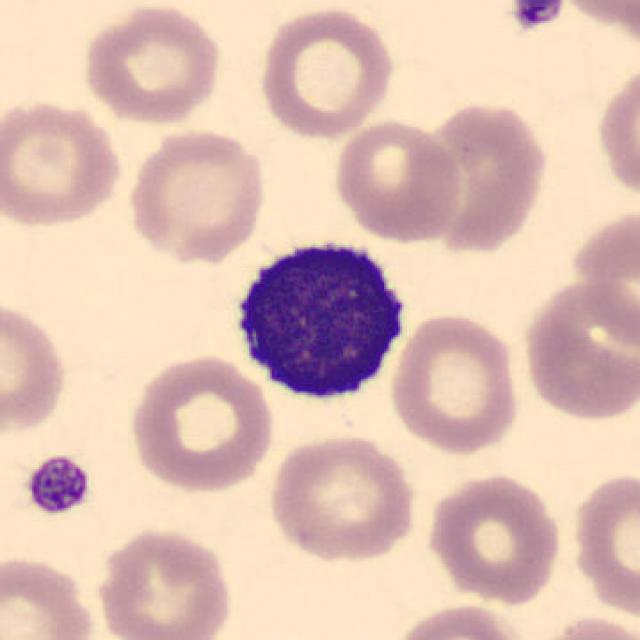Lymphocyte: (220, 226, 418, 409)
Platelets: (23, 452, 94, 518), (509, 0, 567, 32)
RBC: (123, 349, 277, 496), (414, 97, 551, 256), (265, 430, 419, 564), (123, 125, 270, 265), (386, 308, 524, 456), (254, 2, 398, 141), (422, 469, 566, 606), (78, 2, 226, 128), (518, 273, 636, 425), (0, 95, 126, 231), (90, 523, 236, 640), (331, 116, 464, 244), (567, 465, 640, 626), (0, 294, 71, 439), (0, 552, 100, 640), (594, 56, 638, 210), (388, 601, 532, 640), (553, 0, 638, 41), (530, 610, 638, 640)
